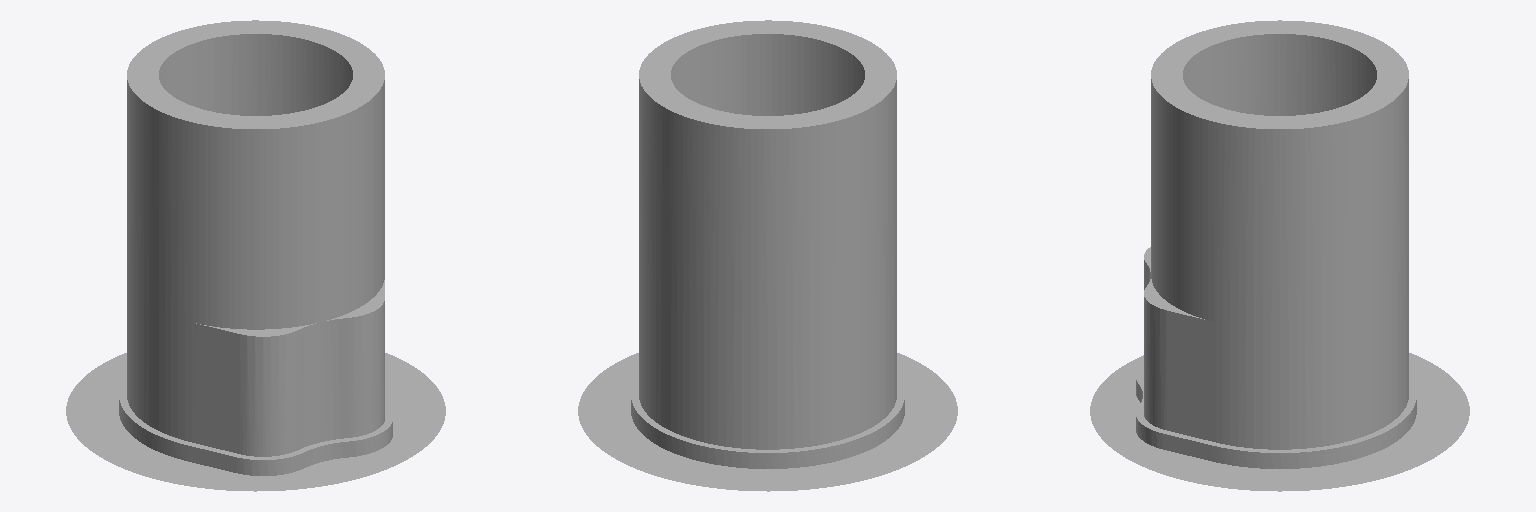
robot.urdf — root:
<?xml version='1.0' encoding='utf-8'?>
<robot name="root">
  <link name="link_001">
    <visual>
      <origin xyz="0 0 0" rpy="0 0 0" />
      <geometry>
        <mesh filename="dbc7c5ac44a97db1176823c8587a8451cdbf7861e5b15f7e1286f59020859315_scale_003.stl" scale="1.0000E+00 1.0000E+00 1.0000E+00" />
      </geometry>
      <material name="">
        <color rgba="7.50E-01 7.50E-01 7.50E-01 1" />
      </material>
    </visual>
    <collision>
      <origin xyz="0 0 0" rpy="0 0 0" />
      <geometry>
        <mesh filename="dbc7c5ac44a97db1176823c8587a8451cdbf7861e5b15f7e1286f59020859315_scale_003.stl" scale="1.0000E+00 1.0000E+00 1.0000E+00" />
      </geometry>
    </collision>
  </link>
</robot>

--- Render facts (derived) ---
3 views of the same robot in one strip: view 1: azimuth 30°, elevation 25°; view 2: azimuth 150°, elevation 25°; view 3: azimuth 270°, elevation 25° (orthographic).
Model root with 1 links and 0 joints (none), rooted at link_001, posed every joint at zero.
Links seen in each view (by area): view 1: link_001; view 2: link_001; view 3: link_001.
Boxes of the visible links, x1,y1,x2,y2 form: link_001: [66, 20, 445, 491]; link_001: [578, 20, 957, 491]; link_001: [1090, 20, 1469, 491].
Bounding box of the posed robot: 0.12 × 0.12 × 0.1172 m (x, y, z).
1 mesh visuals loaded from 1 distinct referenced files (1 binary STL).
